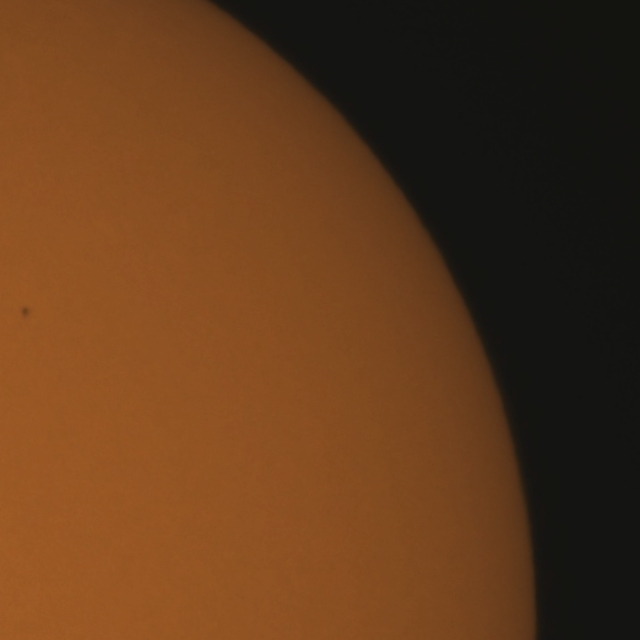sunspot: (19, 304, 32, 320)
